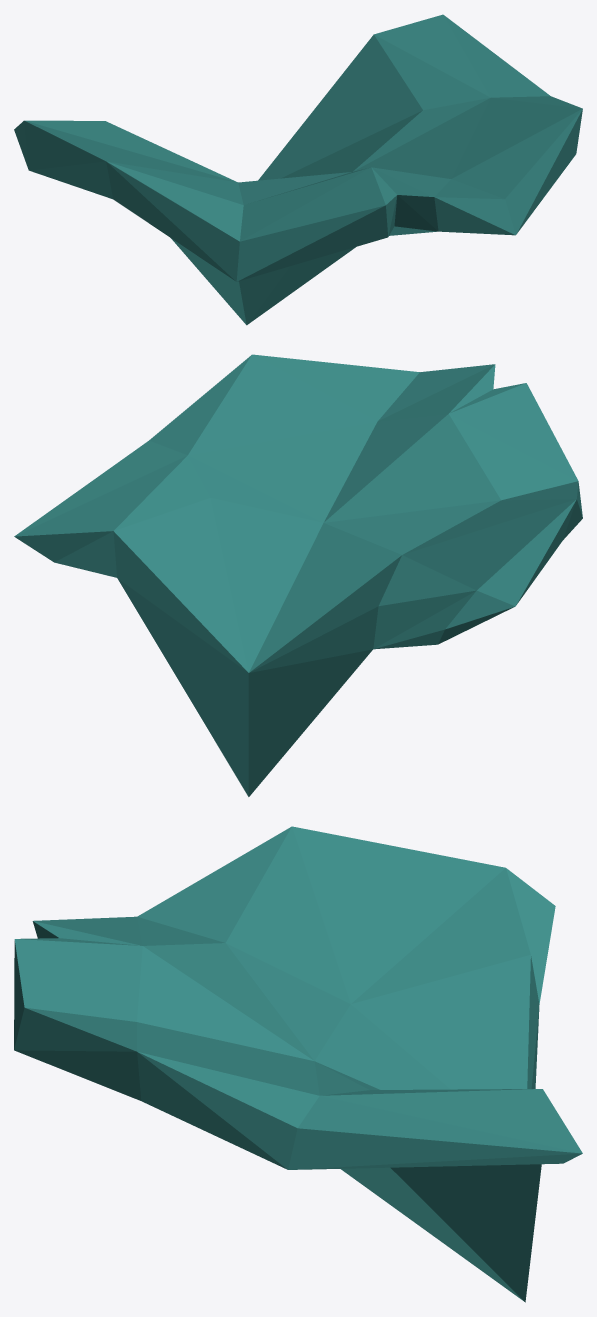
Rendered from SM_Coral_Plate_B.fbx.
The picture shows the model from 3 angles, top to bottom: view 1: azimuth 30°, elevation 25°; view 2: azimuth 150°, elevation 25°; view 3: azimuth 270°, elevation 25°; orthographic projection. The views are drawn at different scales.
Parts seen in each view (by area): view 1: coral-plate-b; view 2: coral-plate-b; view 3: coral-plate-b.
Part boxes in pixels (x1,y1,x2,y2): coral-plate-b: [14, 14, 582, 325]; coral-plate-b: [14, 354, 582, 796]; coral-plate-b: [14, 826, 582, 1302].
Size of the model in its own units: 0.7967 by 0.4861 by 0.7294.
